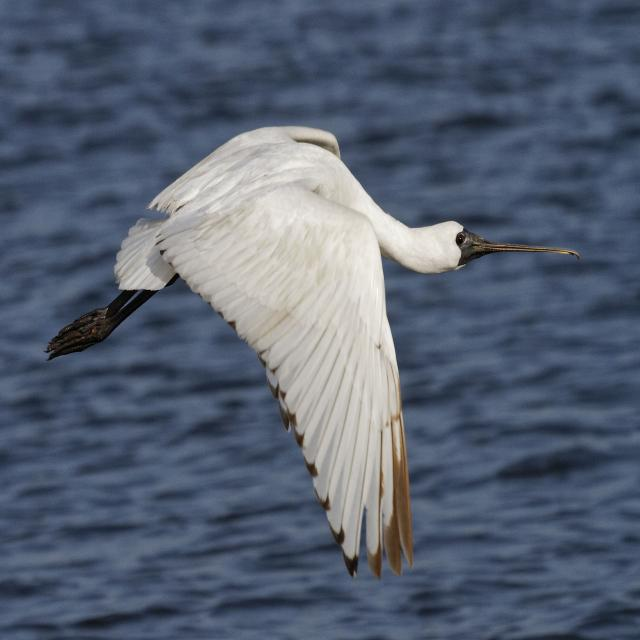Black-faced spoonbill: (47, 127, 577, 576)
